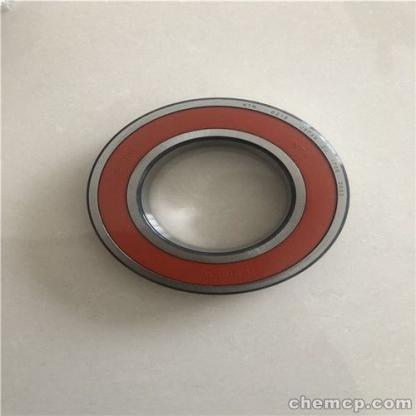FOD: (83, 91, 355, 299)
